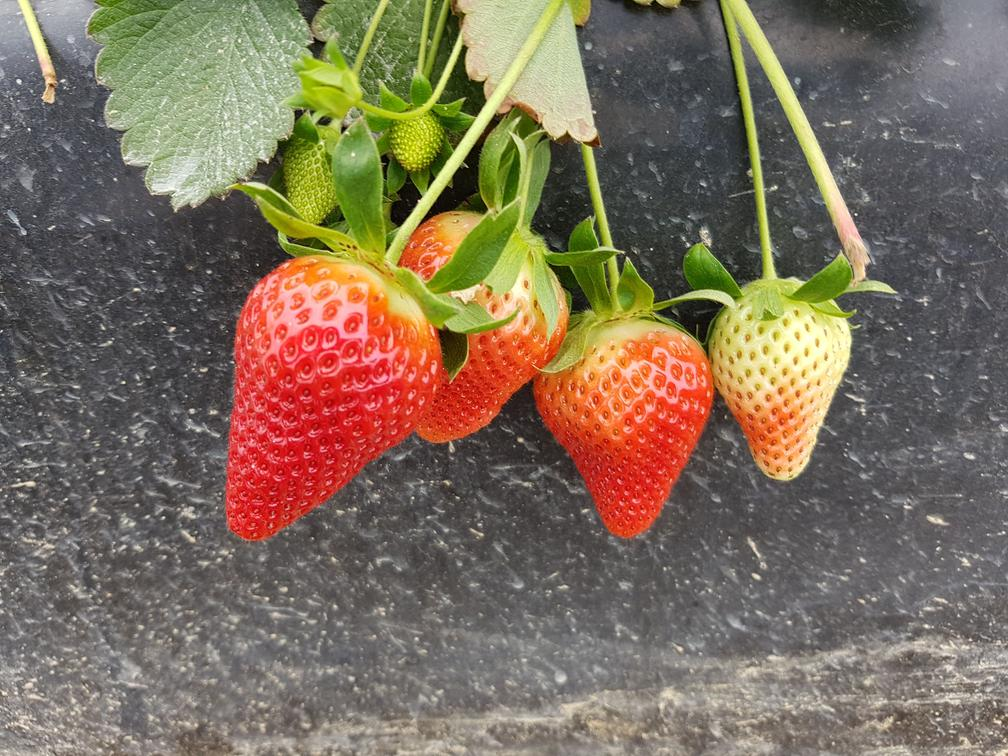Ripe: (215, 250, 443, 543), (416, 203, 578, 444), (540, 314, 714, 538)
Unripe: (715, 279, 857, 483), (274, 143, 346, 224), (392, 105, 445, 169)
